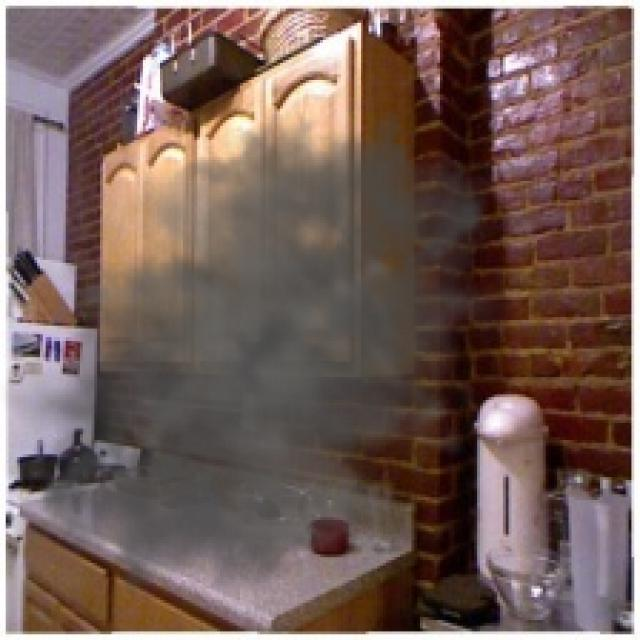Smoke: (0, 77, 526, 632)
